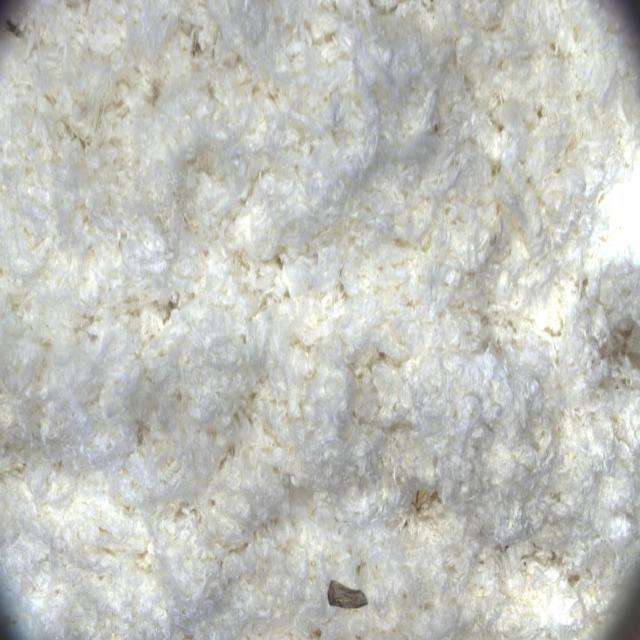dust: (300, 540, 392, 640)
